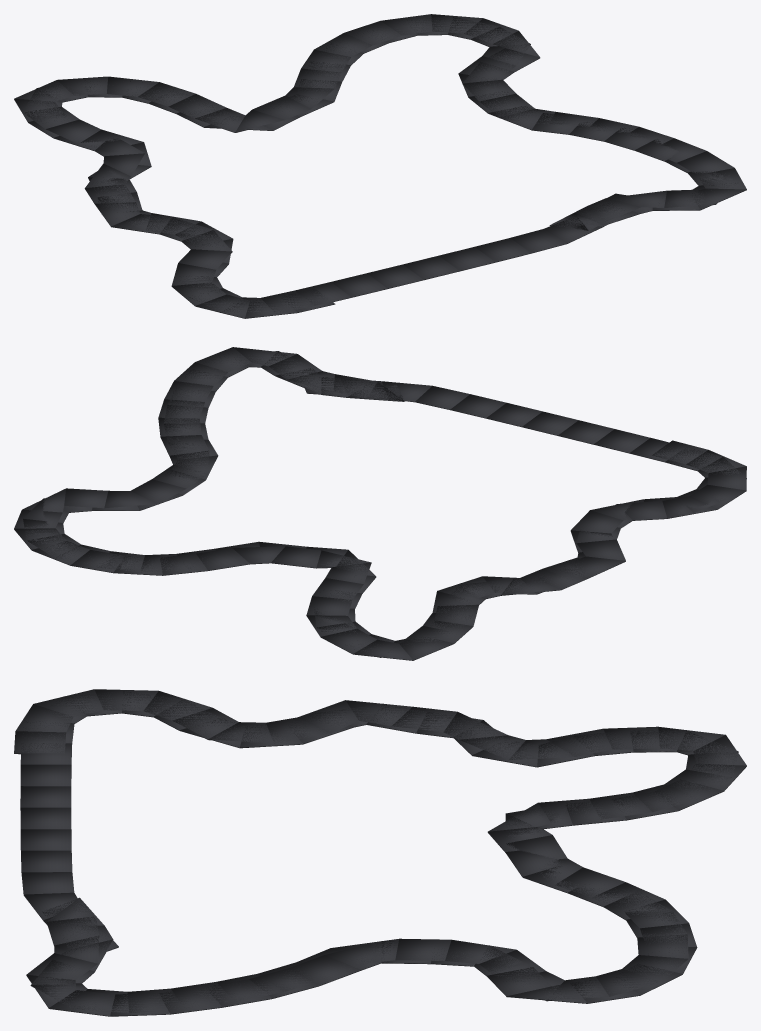
Rendered from circuit.obj.
3 renders of one model, top to bottom at view 1: azimuth 30°, elevation 25°; view 2: azimuth 150°, elevation 25°; view 3: azimuth 270°, elevation 25°, orthographic. The views are drawn at different scales.
Visible parts, largest first — view 1: road_Cube.001; view 2: road_Cube.001; view 3: road_Cube.001.
Part boxes in pixels (x1,y1,x2,y2): road_Cube.001: (14, 14, 746, 318); road_Cube.001: (14, 347, 746, 660); road_Cube.001: (14, 689, 746, 1016).
Size of the model in its own units: 91.09 by 0.12 by 86.38.
Materials: 1 (1 with a texture image).
